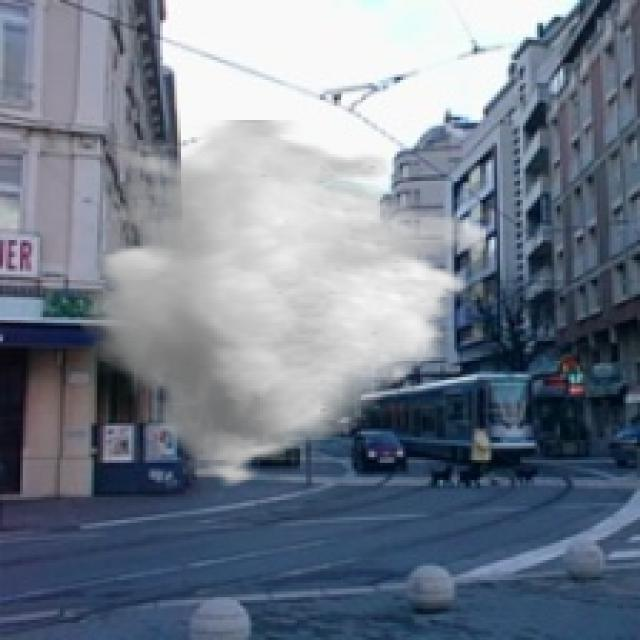Smoke: (80, 120, 489, 494)
